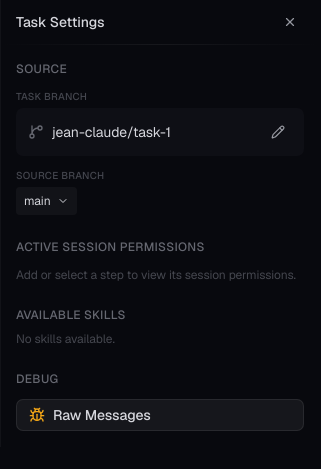
Scenario: TaskSettingsPane › surfaces an error when changing the source branch fails
The image size is (321, 469).
Click the button "main": (46, 201) [16,187,77,215]
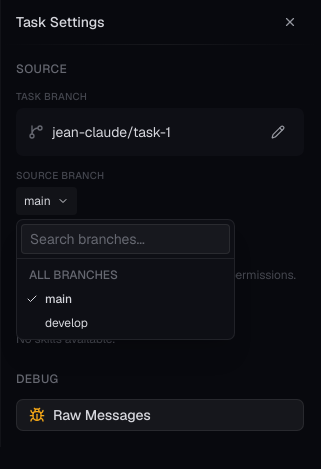
Click the option "develop": (126, 323) [17,311,234,335]
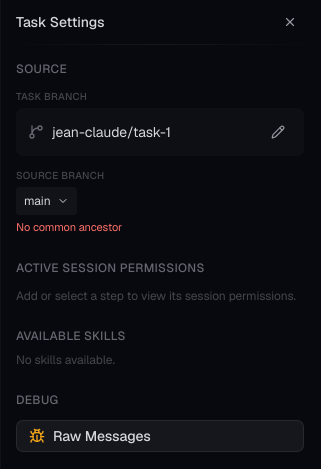
Expected: the text "No common ancestor" is shown, [16,220,122,234]
